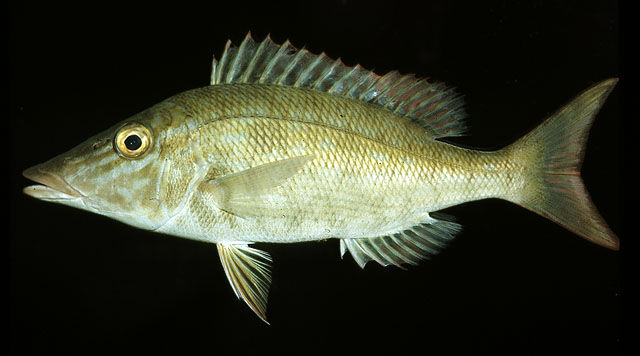fish: (22, 32, 622, 326)
